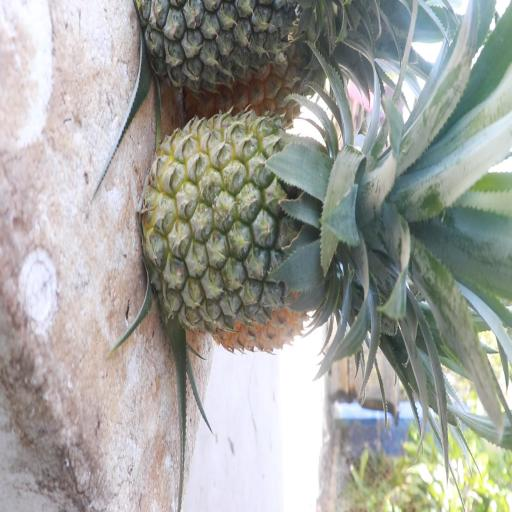------------------------------: (145, 119, 356, 330)
